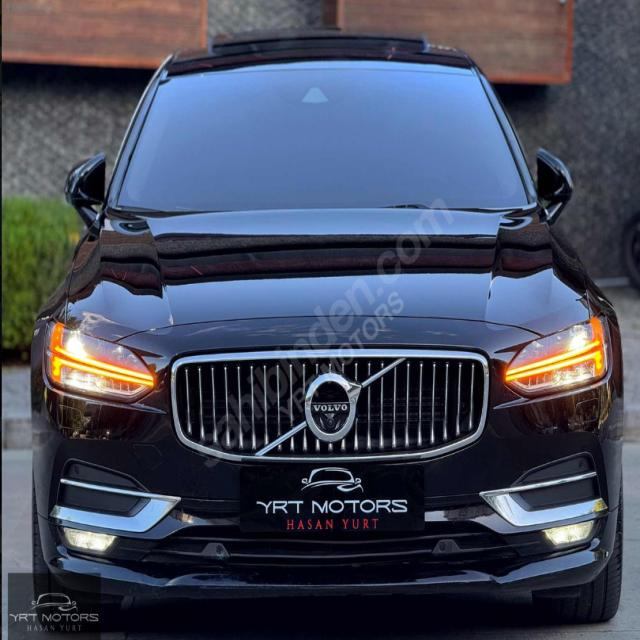volvo: (302, 368, 364, 447)
